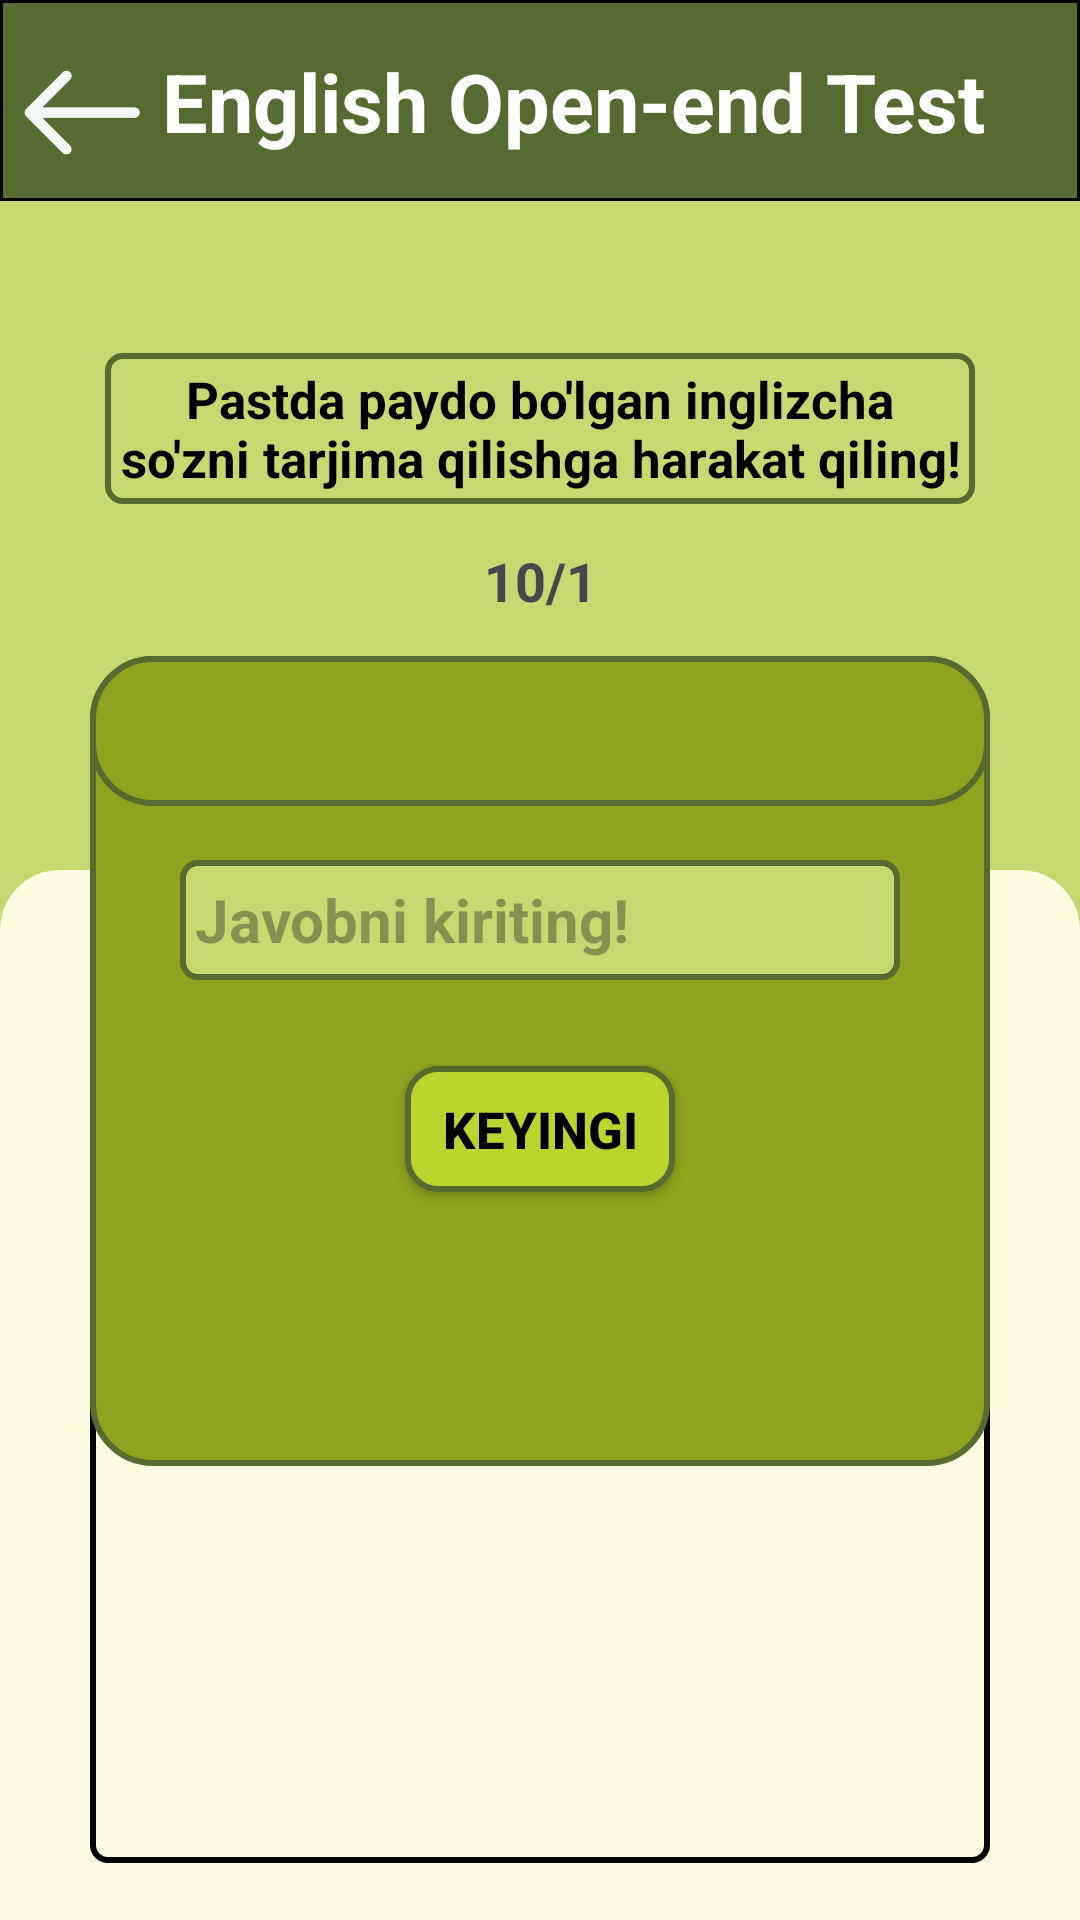

Where icons sit on this 1080 x 1920 app screen, as detection(x1, y1, x2, y2):
bacl: detection(24, 70, 140, 155)
